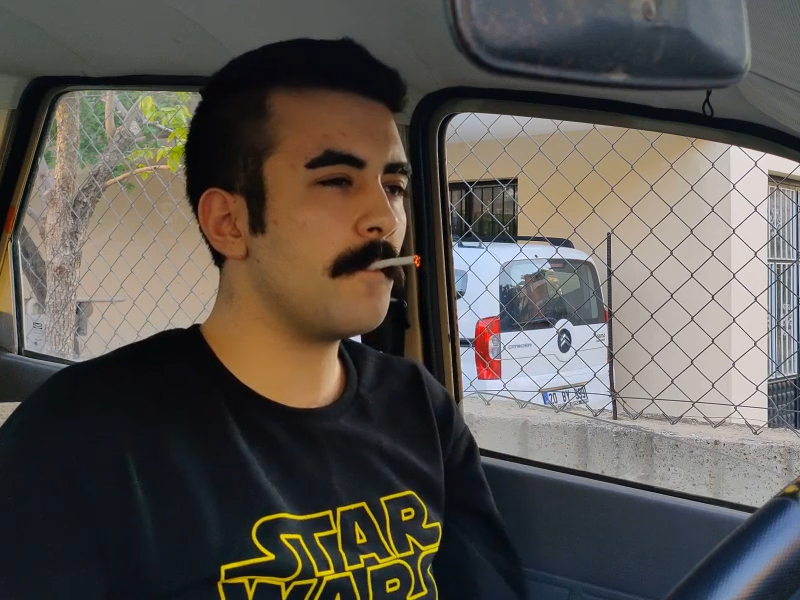sigara: (366, 253, 423, 270)
